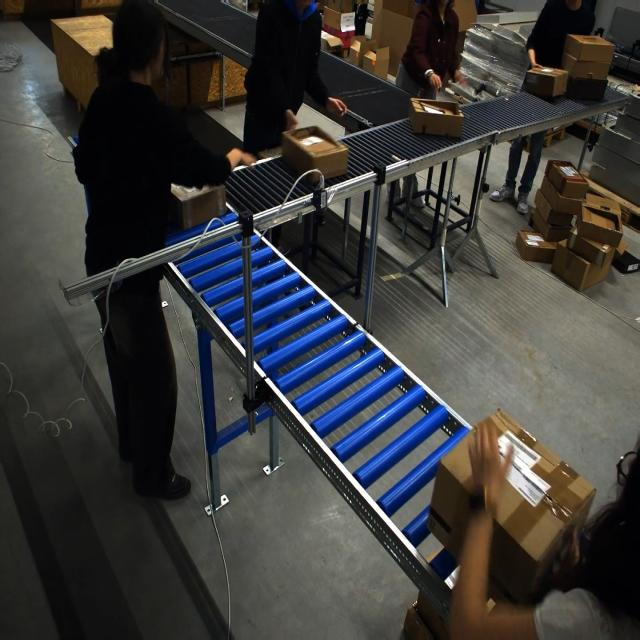box: (431, 416, 598, 603), (282, 125, 342, 182), (169, 180, 227, 231), (408, 98, 464, 138), (360, 43, 388, 79)
